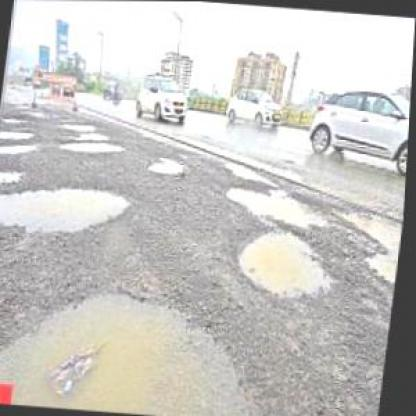pothole: (236, 225, 340, 298), (226, 179, 330, 230), (61, 136, 125, 157), (148, 153, 188, 176), (61, 119, 98, 132)
